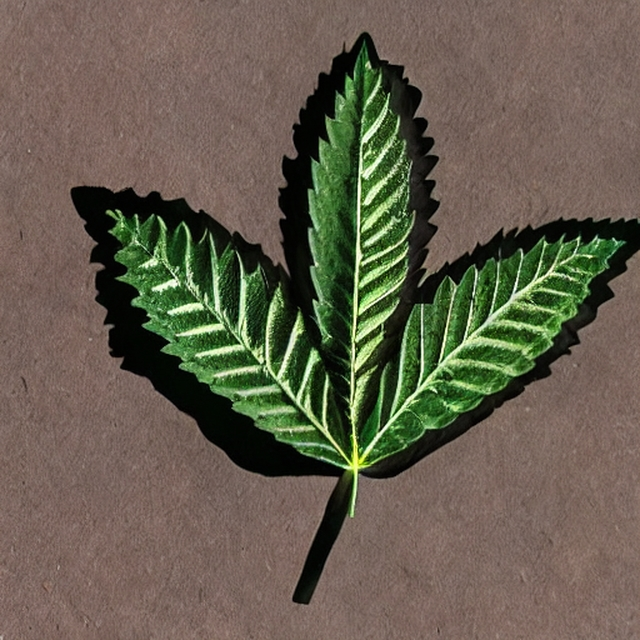Marijuana Leaf: (83, 30, 638, 602), (100, 31, 635, 517)
